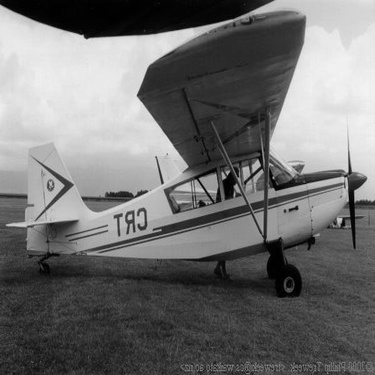airplane: (5, 9, 366, 311)
